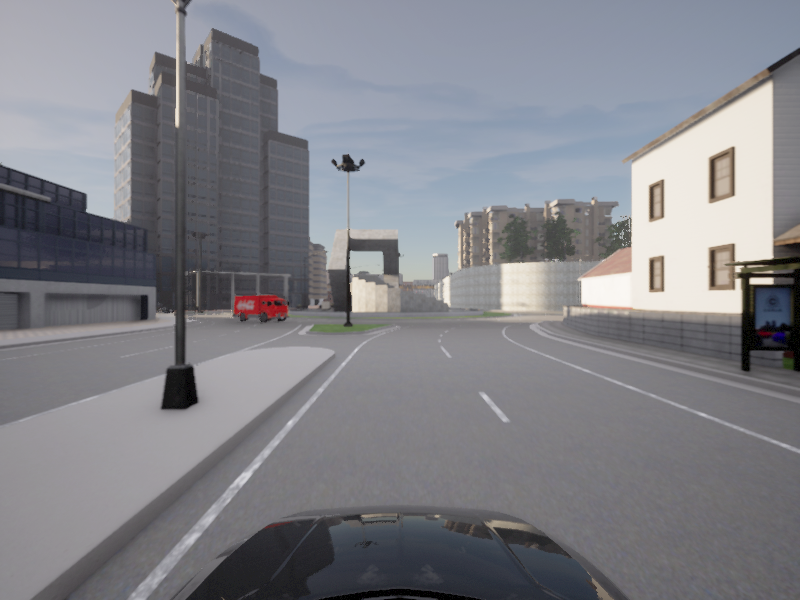vehicle: (0, 0, 799, 542), (231, 294, 293, 323)
